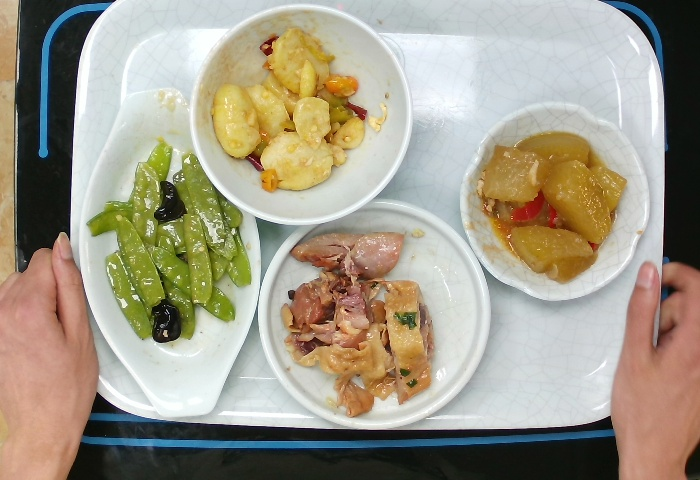JYsf-Ao_Yuan_Wan: (457, 99, 652, 303)
JYsf-Fan_Wan: (188, 2, 415, 227)
JYsf-Xiao_Yuan_Pan: (256, 196, 493, 431)
JYsf-Yu_Pan: (77, 86, 263, 419)
